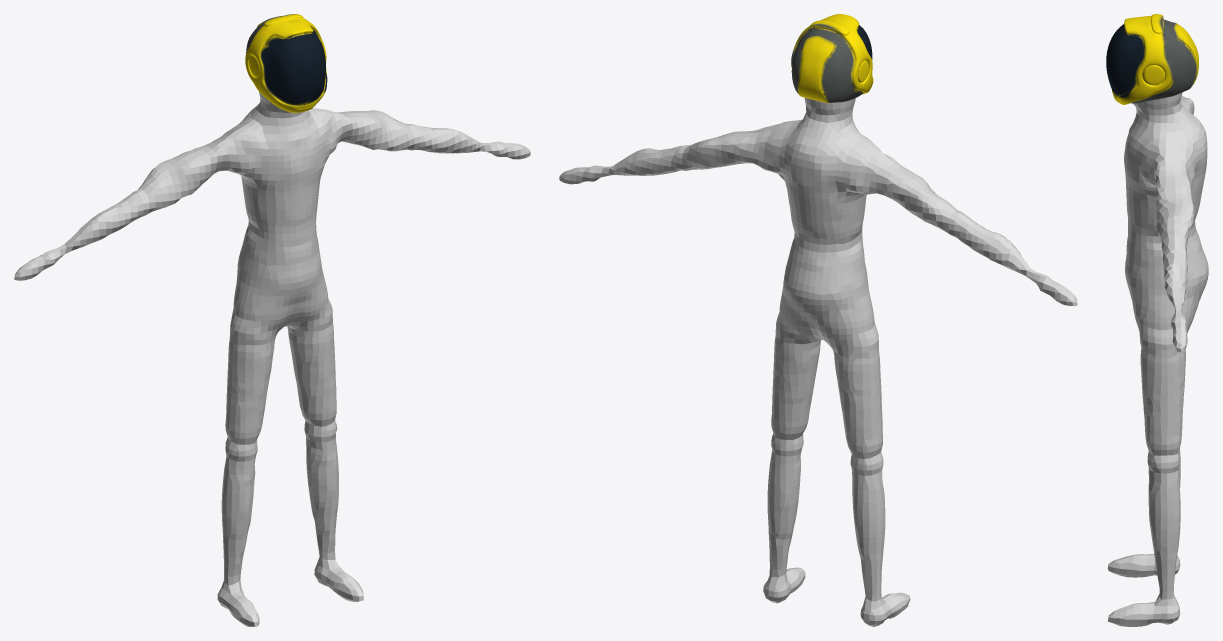
The model's file is HELMET.fbx.
The picture shows the model from 3 angles, left to right: view 1: azimuth 30°, elevation 25°; view 2: azimuth 150°, elevation 25°; view 3: azimuth 270°, elevation 25°; orthographic projection.
Visible parts, largest first — view 1: Group30973, Cube.002, Group35325, Group42716, Group15557, Group21692, Group57412, Group3156, Group36404, Group15673, Group1924, Group24954 (+6 smaller); view 2: Group30973, Group35325, Cube.002, Group42716, Group15557, Group21692, Group36404, Group3156, Group57412, Group30385, Group15673, Group24954 (+9 smaller); view 3: Cube.002, Group30973, Group35325, Group21692, Group3156, Group42716, Group15557, Group36404, Group267, Group57412, Group15673, Group24954 (+11 smaller).
Part boxes in pixels (x1,y1,x2,y2): Group30973: [225, 322, 336, 444]; Cube.002: [245, 14, 327, 112]; Group35325: [221, 442, 338, 592]; Group42716: [142, 110, 410, 208]; Group15557: [241, 152, 328, 233]; Group21692: [232, 260, 328, 333]; Group57412: [54, 126, 499, 259]; Group3156: [238, 226, 321, 284]; Group36404: [225, 108, 337, 181]; Group15673: [229, 299, 332, 352]; Group1924: [247, 102, 315, 167]; Group24954: [225, 415, 337, 470]; Group30973: [771, 336, 882, 458]; Group35325: [767, 457, 885, 601]; Cube.002: [791, 14, 873, 103]; Group42716: [686, 130, 950, 227]; Group15557: [783, 174, 866, 244]; Group21692: [777, 277, 874, 345]; Group36404: [762, 119, 882, 196]; Group3156: [784, 237, 867, 294]; Group57412: [601, 148, 1036, 282]; Group30385: [745, 125, 896, 194]; Group15673: [775, 318, 878, 364]; Group24954: [771, 428, 883, 483]; Cube.002: [1106, 14, 1198, 104]; Group30973: [1140, 349, 1185, 452]; Group35325: [1148, 448, 1180, 601]; Group21692: [1125, 273, 1204, 332]; Group3156: [1125, 229, 1208, 287]; Group42716: [1155, 98, 1194, 240]; Group15557: [1124, 153, 1207, 234]; Group36404: [1135, 129, 1207, 191]; Group267: [1107, 554, 1161, 626]; Group57412: [1162, 98, 1187, 317]; Group15673: [1138, 323, 1190, 359]; Group24954: [1147, 446, 1179, 482].
Bounding box in the file's own units: 274 × 297 × 47.46.
